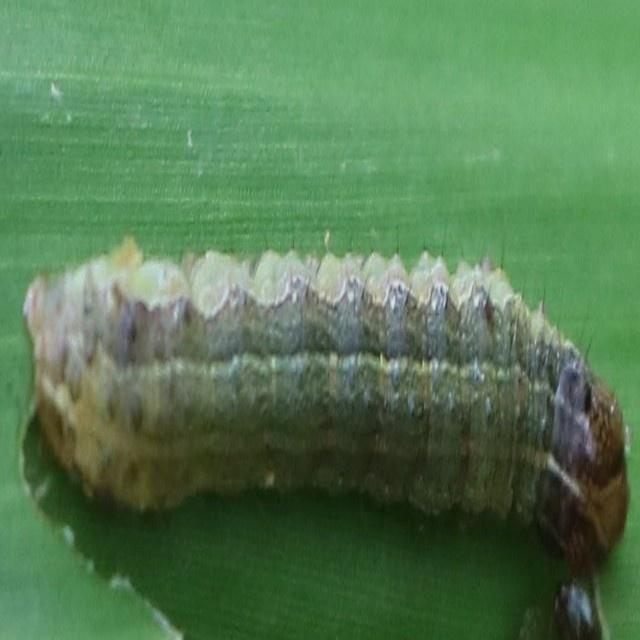gusano_cogollero: (18, 231, 634, 640)
